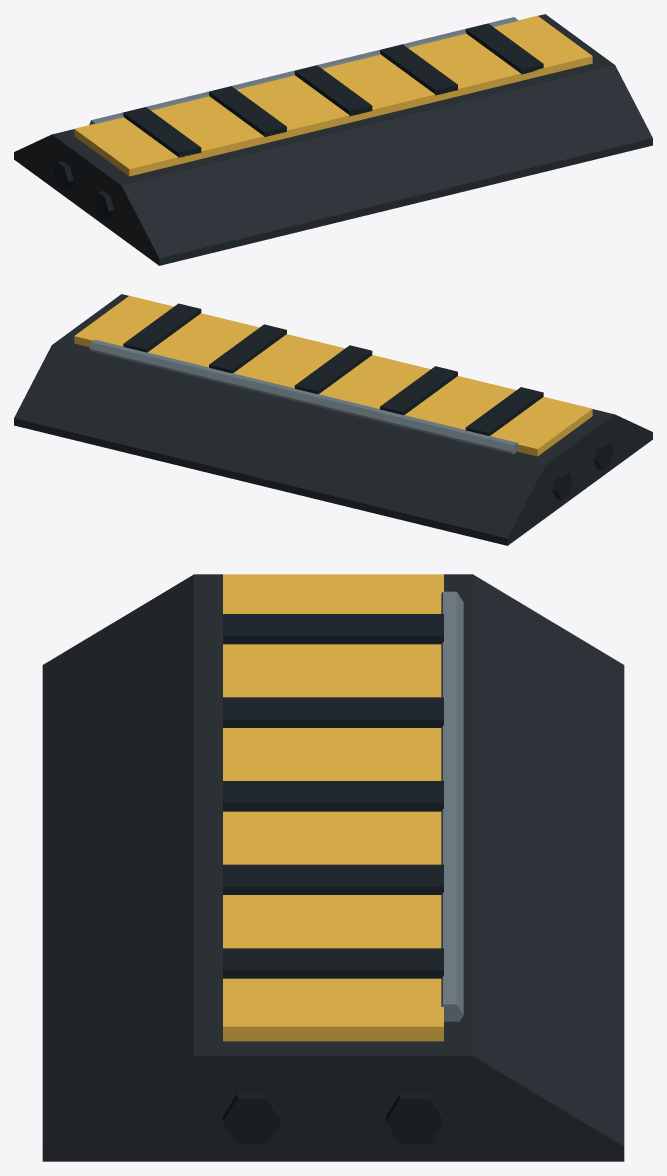
File: b02_cable_protector_ramp.glb
The picture shows the model from 3 angles, top to bottom: view 1: azimuth 30°, elevation 25°; view 2: azimuth 150°, elevation 25°; view 3: azimuth 270°, elevation 25°; orthographic projection. The views are drawn at different scales.
Parts seen in each view (by area): view 1: b02_cable_protector_ramp; view 2: b02_cable_protector_ramp; view 3: b02_cable_protector_ramp.
Boxes of the visible parts, x1,y1,x2,y2 form: b02_cable_protector_ramp: (14,14,652,265); b02_cable_protector_ramp: (14,294,652,545); b02_cable_protector_ramp: (42,574,624,1161).
Bounding box in the file's own units: 1 × 0.122 × 0.5.
